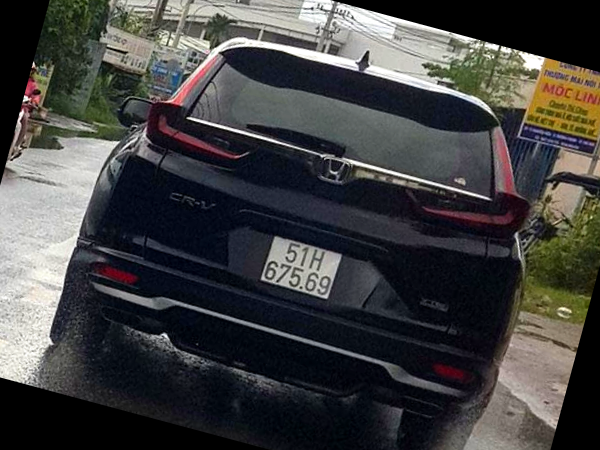lisence: (259, 236, 342, 300)
